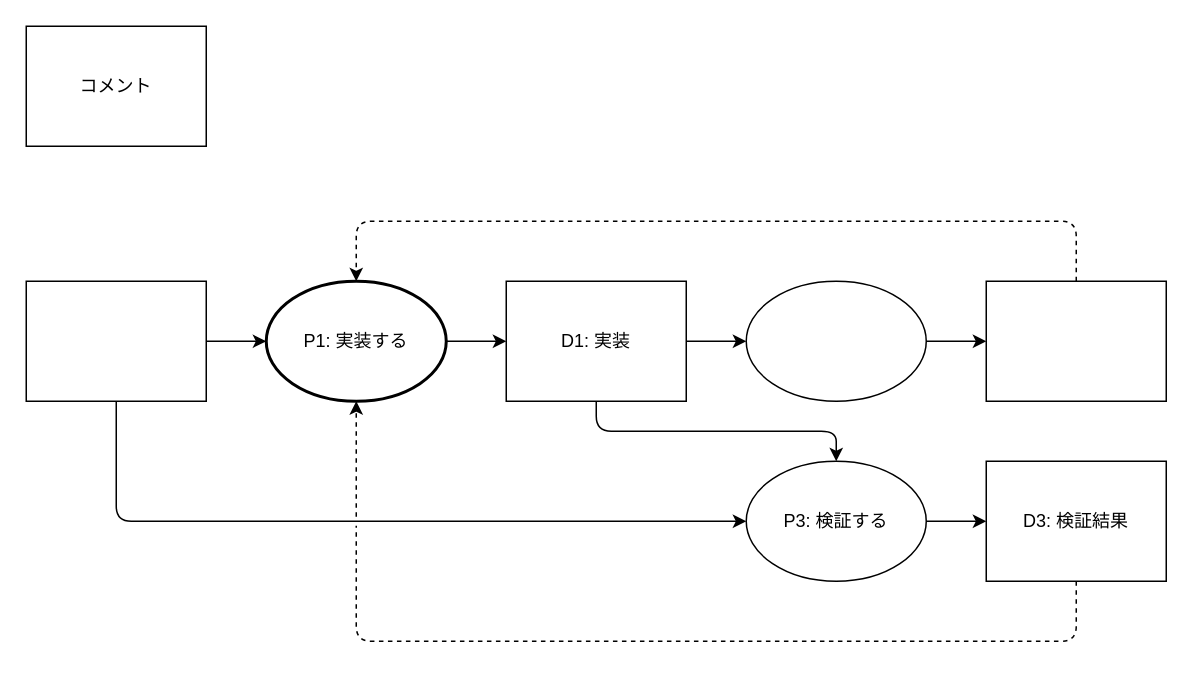
The diagram is 1193 pixels wide and 680 high, and some of its shapes have lost their labels. Here are the shapes that lost their labels. From the top down, the centre of each, then its label:
At (x=115, y=340): "D4: 仕様".
At (x=835, y=340): "P2: レビューする".
At (x=1075, y=340): "D2: レビュー コメント".
